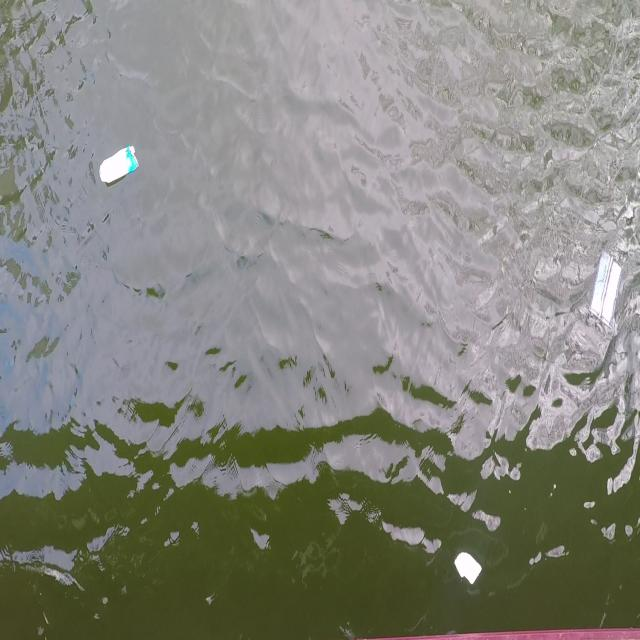Autre plastique: (586, 248, 624, 337), (452, 547, 483, 588)
